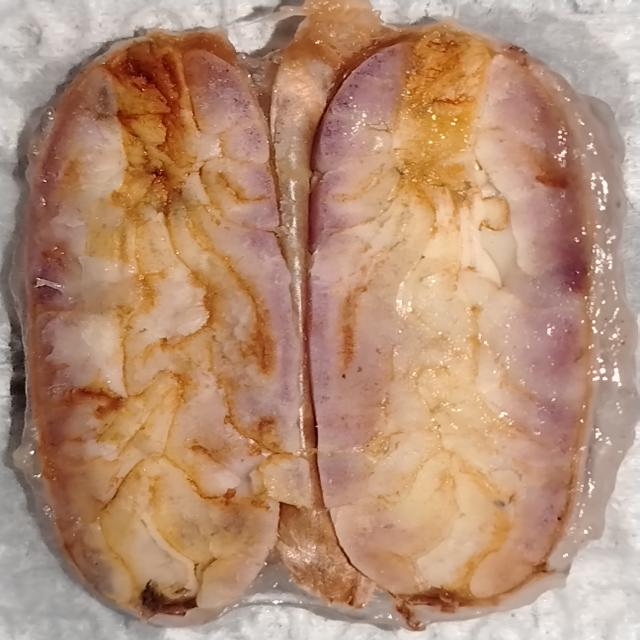Trinitario: (305, 30, 595, 619), (28, 29, 301, 627)
